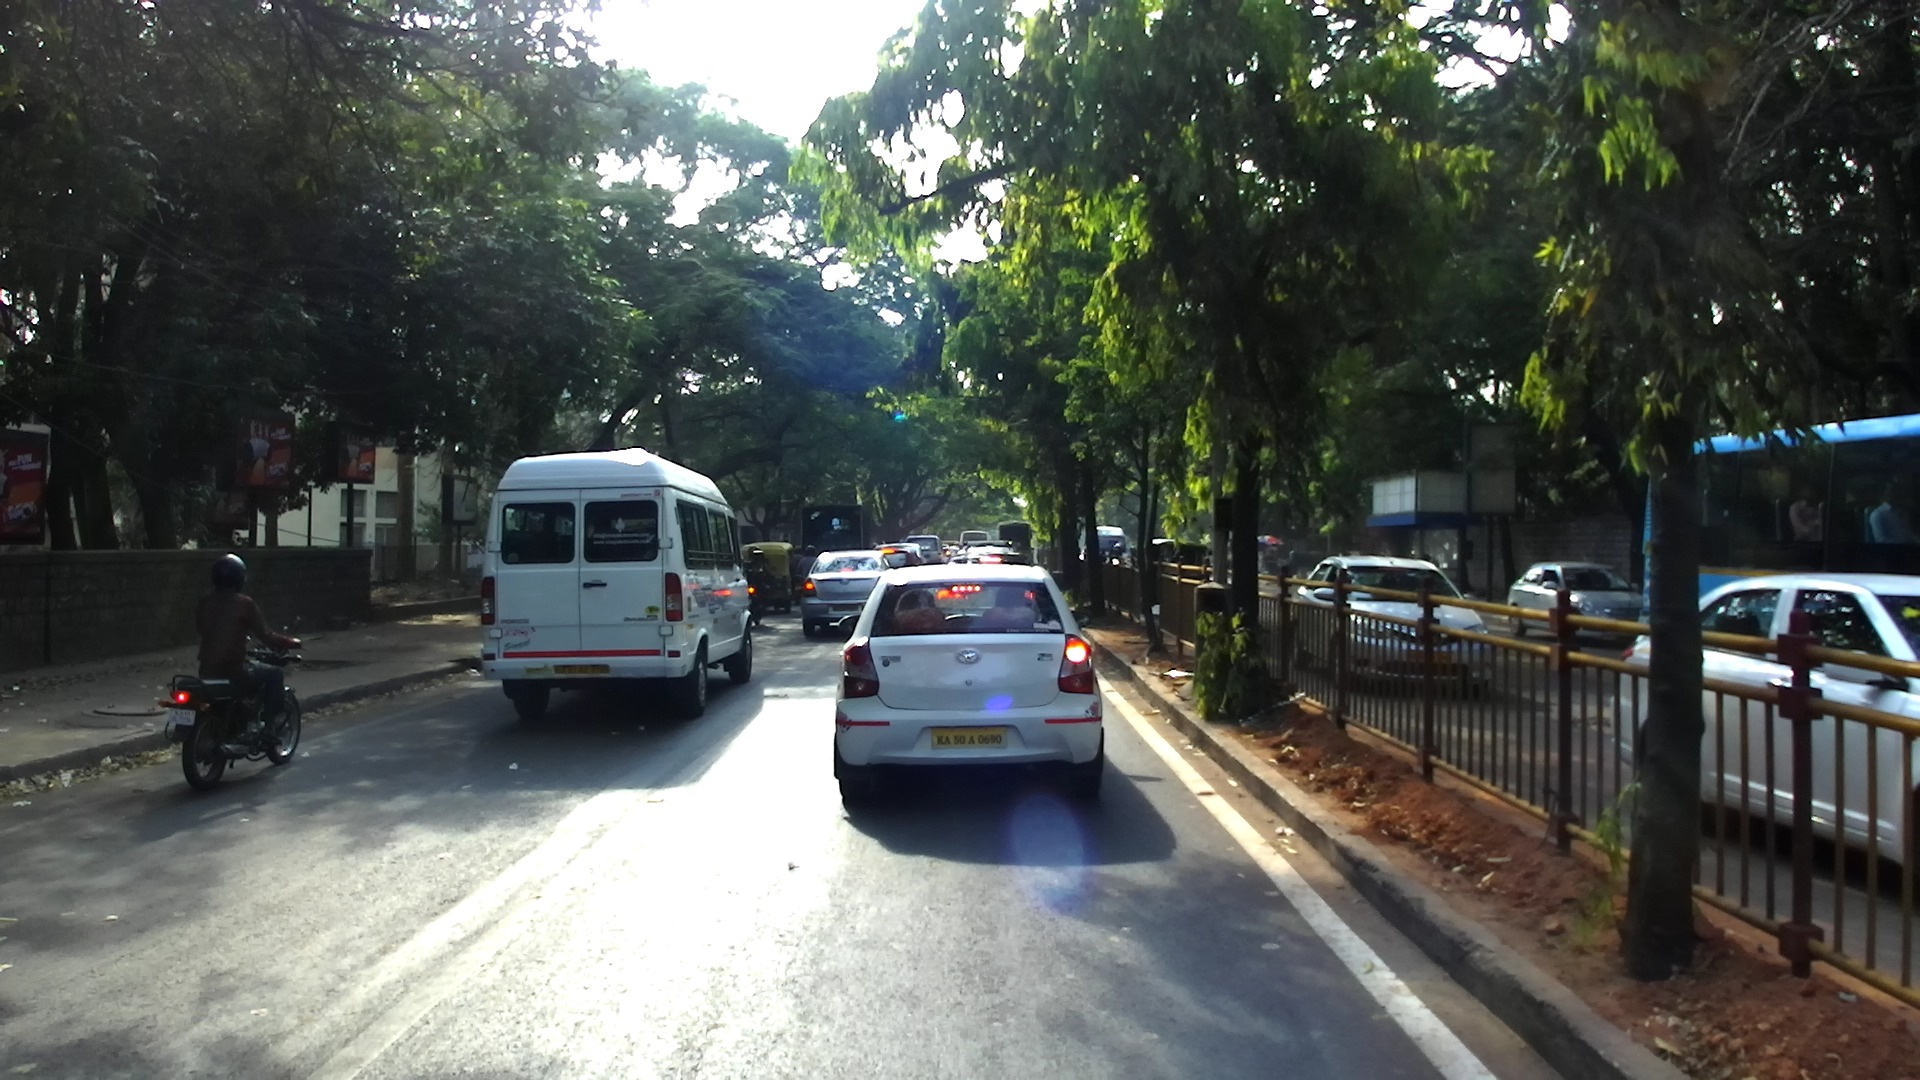autorickshaw: (1149, 537, 1212, 610), (740, 542, 794, 613)
bus: (480, 447, 765, 720), (959, 530, 993, 549)
car: (1612, 572, 1920, 868), (833, 563, 1104, 802), (1294, 556, 1495, 701), (1507, 562, 1643, 646), (802, 550, 892, 637), (871, 542, 929, 569), (905, 534, 949, 565), (947, 552, 1039, 567), (957, 540, 1027, 558), (940, 543, 952, 564)
motorcycle: (158, 617, 305, 794), (746, 576, 772, 625), (791, 573, 804, 607)
person: (1265, 540, 1278, 575), (1287, 546, 1297, 577), (1256, 545, 1264, 574)
rider: (196, 554, 298, 743), (742, 546, 772, 616), (797, 545, 818, 583), (790, 545, 805, 577), (1108, 545, 1125, 565), (948, 540, 959, 554), (961, 541, 969, 550)
traffic light: (893, 410, 908, 426)
truck: (799, 503, 869, 557), (998, 521, 1033, 565)
vehicle fallback: (1095, 525, 1127, 562), (940, 540, 961, 557)
